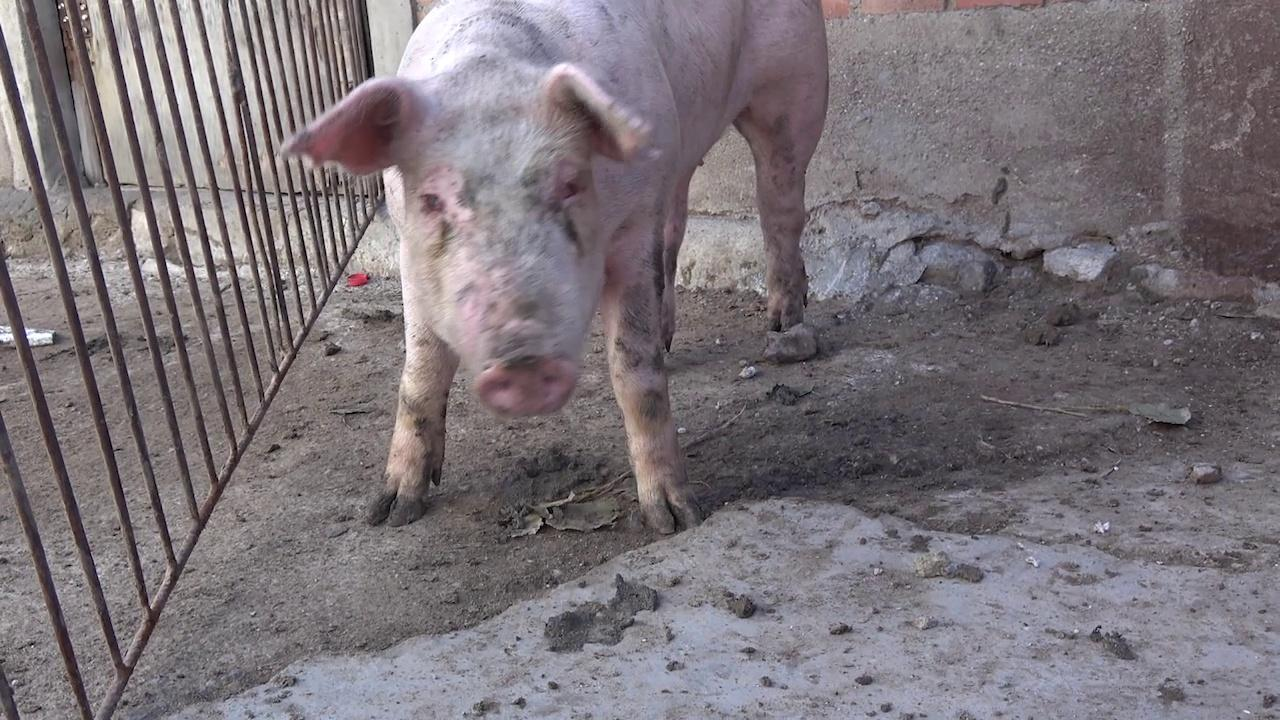Face: (272, 62, 670, 421)
